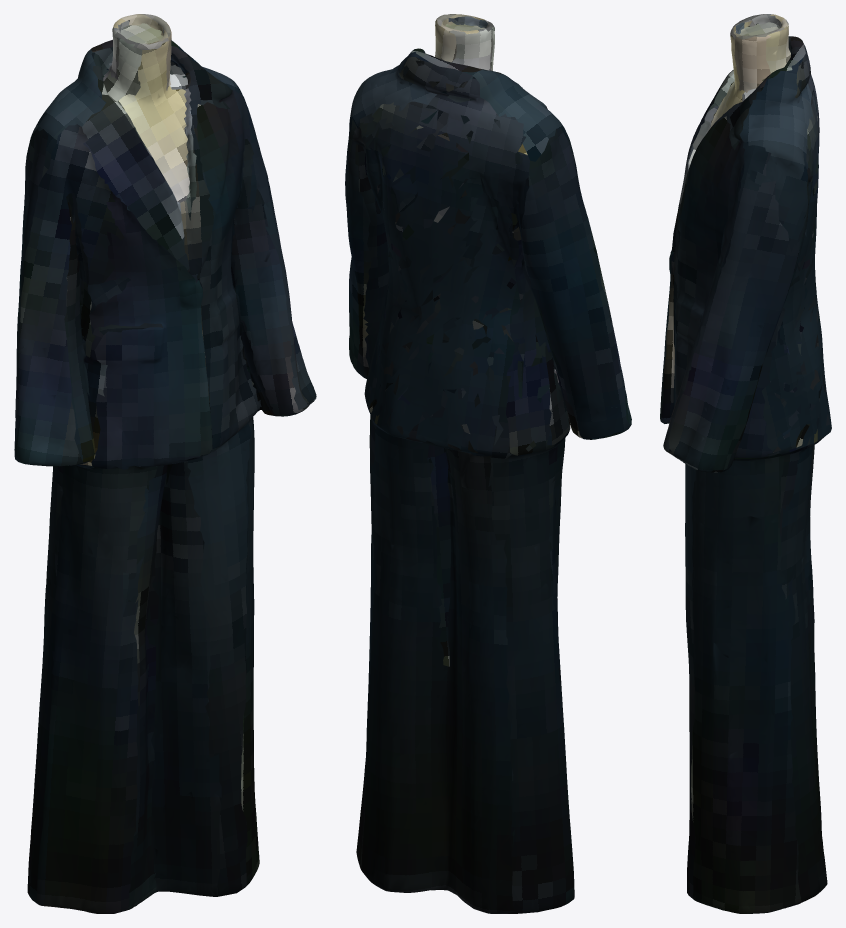
The model's file is conjuntos-tiny-textures.glb.
The picture shows the model from 3 angles, left to right: view 1: azimuth 30°, elevation 25°; view 2: azimuth 150°, elevation 25°; view 3: azimuth 270°, elevation 25°; orthographic projection.
Visible parts, largest first — view 1: textured_mesh; view 2: textured_mesh; view 3: textured_mesh.
Boxes of the visible parts, x1,y1,x2,y2 form: textured_mesh: [14, 14, 316, 913]; textured_mesh: [345, 14, 631, 913]; textured_mesh: [660, 14, 831, 913].
Bounding box in the file's own units: 0.6976 × 1.99 × 0.366.
Materials: 1 (1 with a texture image).
